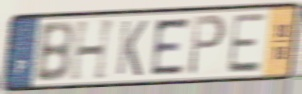B: (33, 19, 75, 84)
E: (224, 11, 268, 76), (149, 15, 192, 78)
H: (68, 17, 118, 84)
K: (114, 18, 150, 78)
P: (186, 12, 229, 78)
